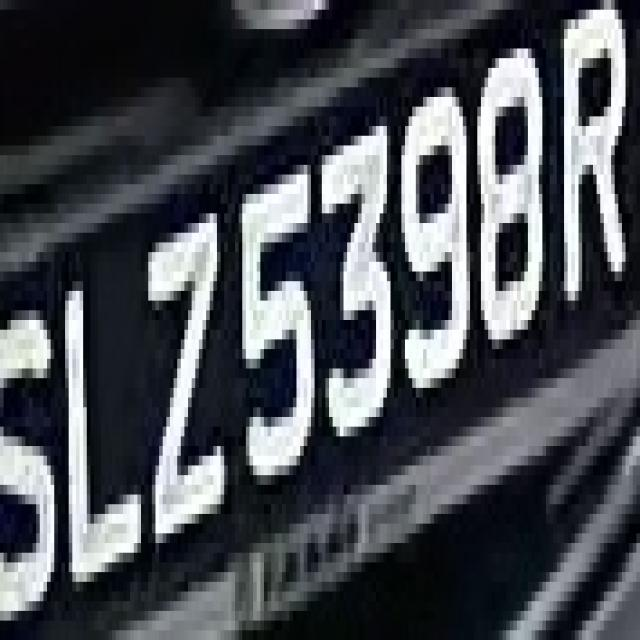3: (304, 107, 391, 475)
5: (228, 136, 325, 494)
8: (466, 10, 554, 349)
9: (390, 68, 478, 407)
L: (43, 243, 152, 602)
R: (550, 19, 629, 320)
S: (0, 271, 61, 620)
Z: (130, 185, 239, 562)
